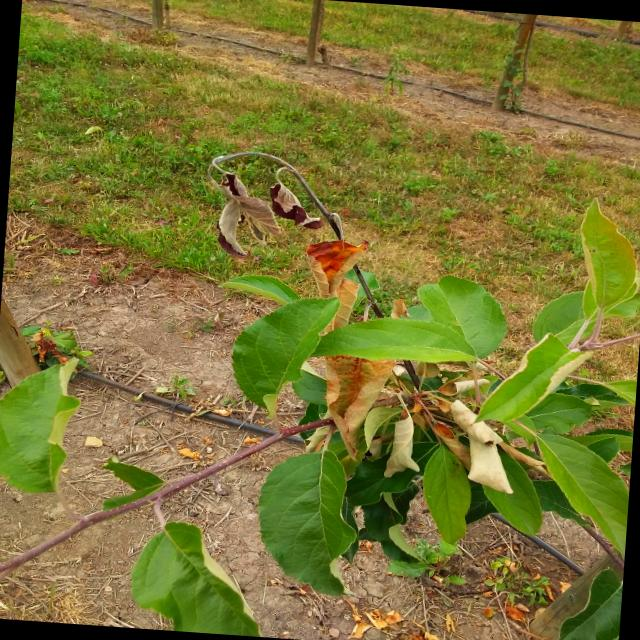-FireBlight-: (308, 310, 526, 488), (200, 129, 368, 300)
